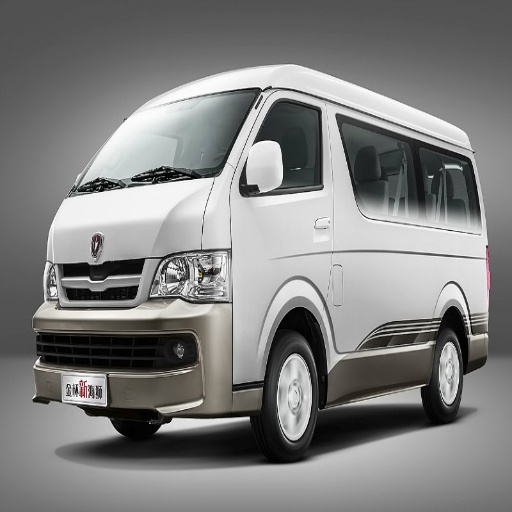front_bumper: (33, 229, 264, 420)
front_glass: (74, 91, 258, 193)
front_left_door: (232, 96, 332, 267)
trunk: (336, 256, 487, 351)
